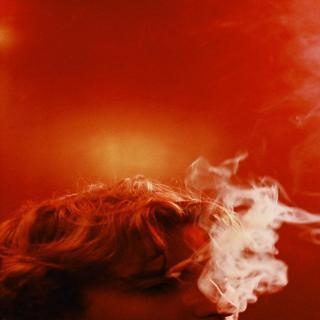smoke: (197, 163, 305, 310)
